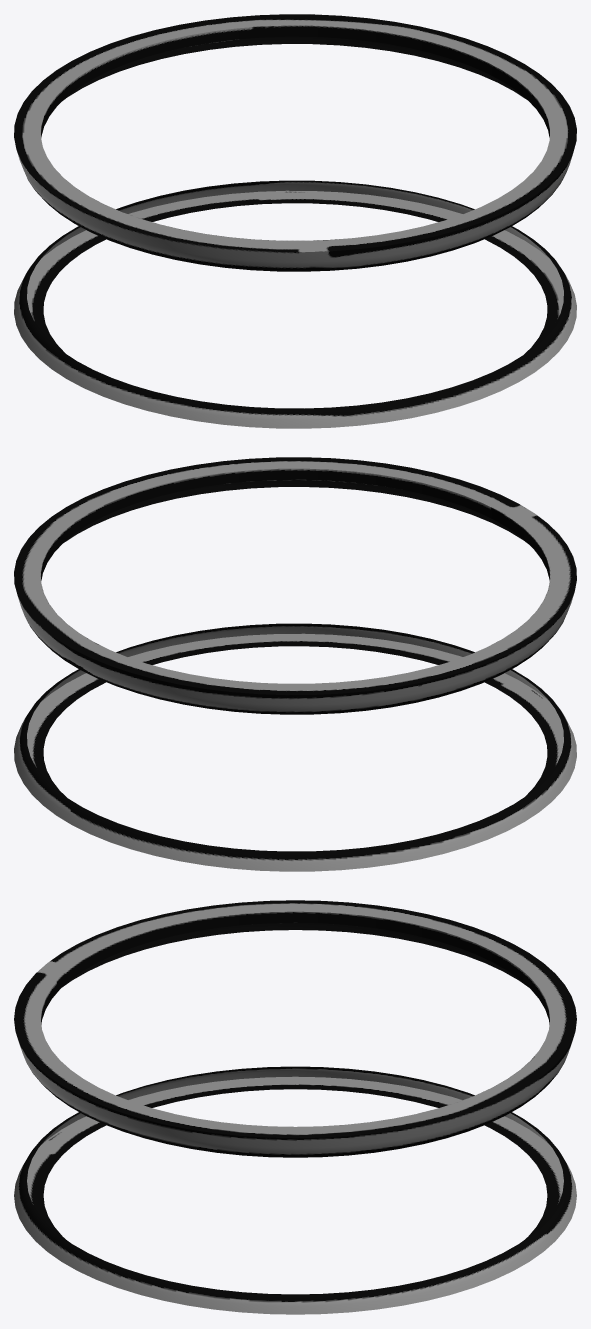
Rendered from drumsetV4_DrumRings002.obj.
3 renders of one model, top to bottom at view 1: azimuth 30°, elevation 25°; view 2: azimuth 150°, elevation 25°; view 3: azimuth 270°, elevation 25°, orthographic.
Visible parts, largest first — view 1: drumsetV4_DrumRings002_Cylinder.040; view 2: drumsetV4_DrumRings002_Cylinder.040; view 3: drumsetV4_DrumRings002_Cylinder.040.
Part boxes in pixels (bbox=[...]): drumsetV4_DrumRings002_Cylinder.040: bbox=[14, 14, 576, 428]; drumsetV4_DrumRings002_Cylinder.040: bbox=[14, 457, 576, 871]; drumsetV4_DrumRings002_Cylinder.040: bbox=[14, 900, 576, 1314].
Bounding box in the file's own units: 1.5 × 0.5202 × 1.5.
